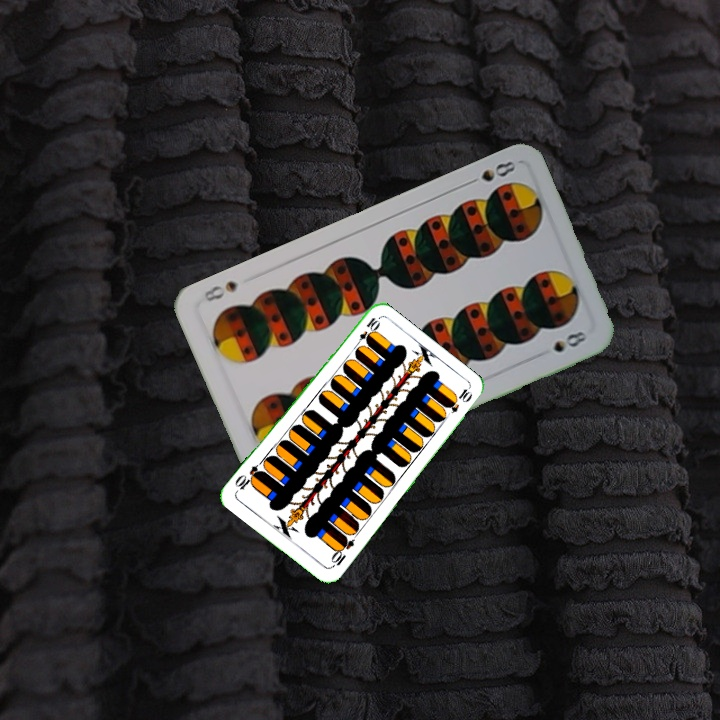E10: (351, 313, 381, 350), (327, 533, 357, 570)
S8: (462, 156, 519, 188)
